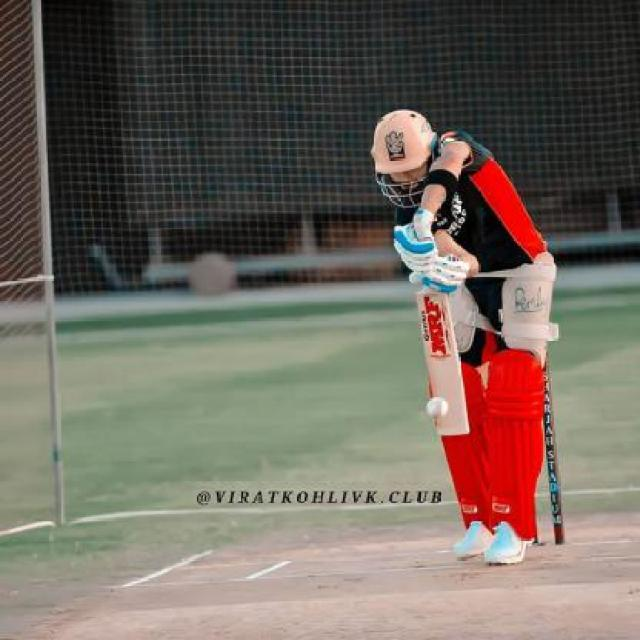ball: (390, 364, 462, 435)
